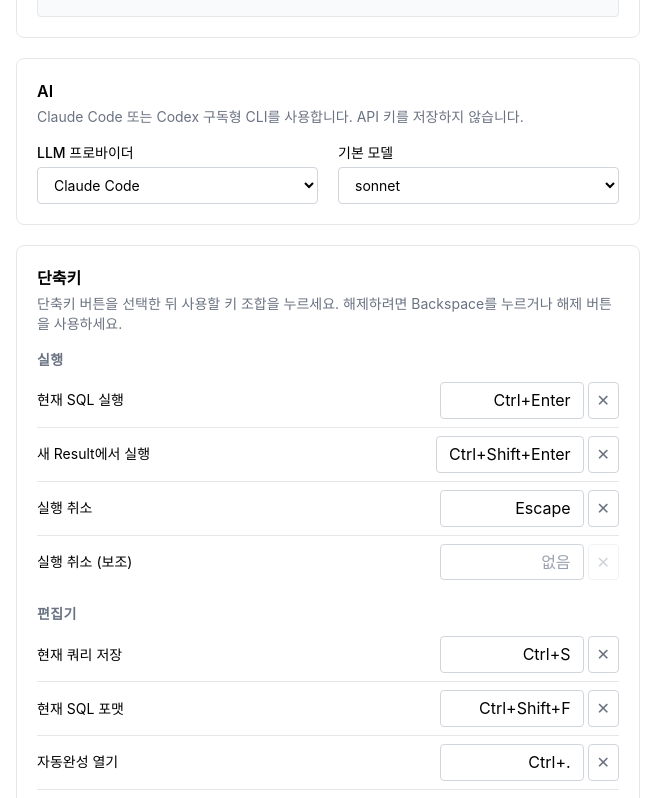
Test: clears a shortcut and stores it as cleared
(page scrolled)
Click the button named "현재 SQL 실행 단축키 해제" at (603, 400), box 588,382 -> 619,419
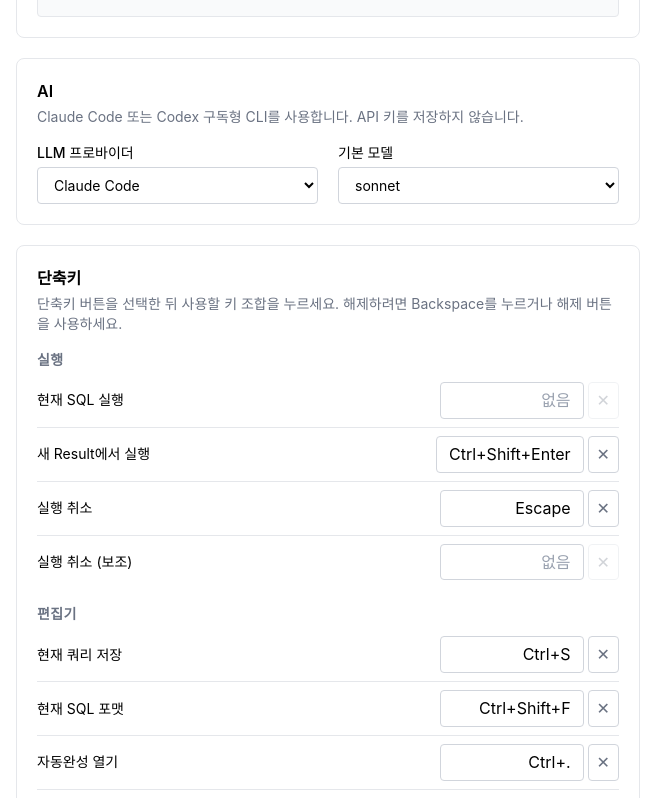
Result: the button with aria-label "현재 SQL 실행 단축키" reads "없음" at 440,382 -> 584,419
Result: the button named "현재 SQL 실행 단축키 해제" is disabled at 588,382 -> 619,419
